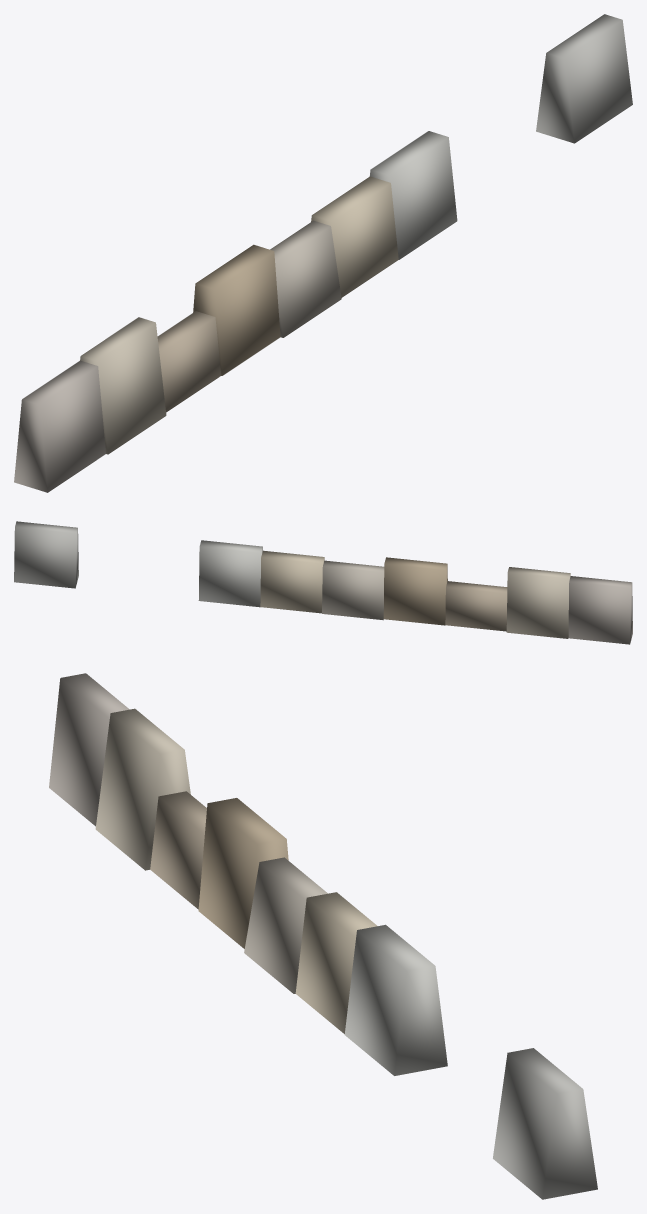
File: farm_22_21_collision.glb
The picture shows the model from 3 angles, top to bottom: view 1: azimuth 30°, elevation 25°; view 2: azimuth 150°, elevation 25°; view 3: azimuth 270°, elevation 25°; orthographic projection. The views are drawn at different scales.
Visible parts, largest first — view 1: geometry_0; view 2: geometry_0; view 3: geometry_0.
Boxes of the visible parts, x1,y1,x2,y2 form: geometry_0: [14, 14, 632, 492]; geometry_0: [14, 521, 632, 644]; geometry_0: [49, 673, 597, 1199].
Size of the model in its own units: 14.13 by 2.31 by 6.7.
